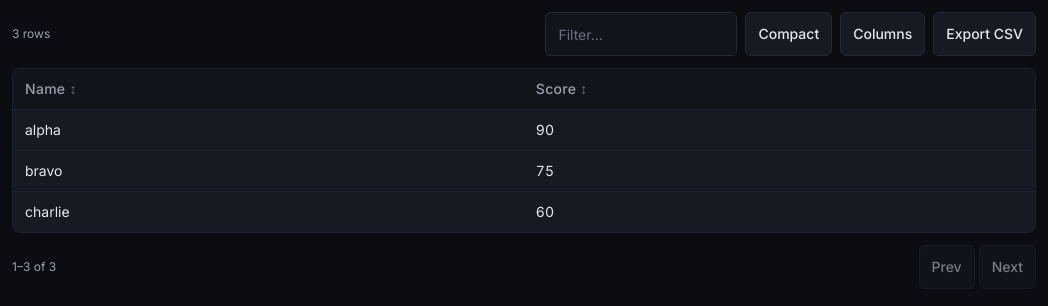
Test case: <DataTable> › toggles density via the toolbar button
Click the button "Compact" at (789, 34), box 745,12 -> 832,56
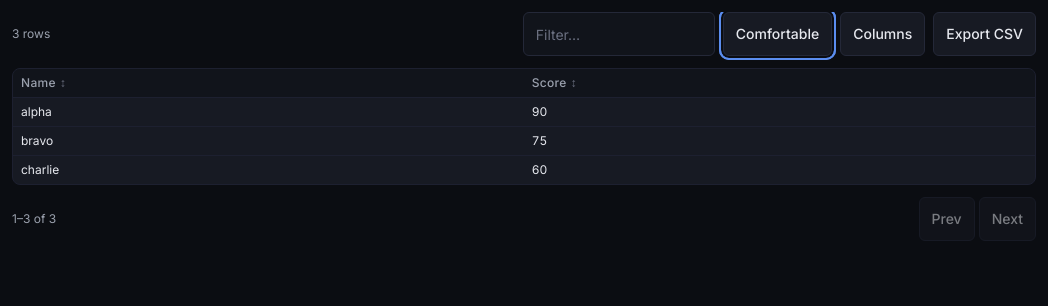
Expected: the button "Comfortable" is shown, 723,12 -> 832,56
